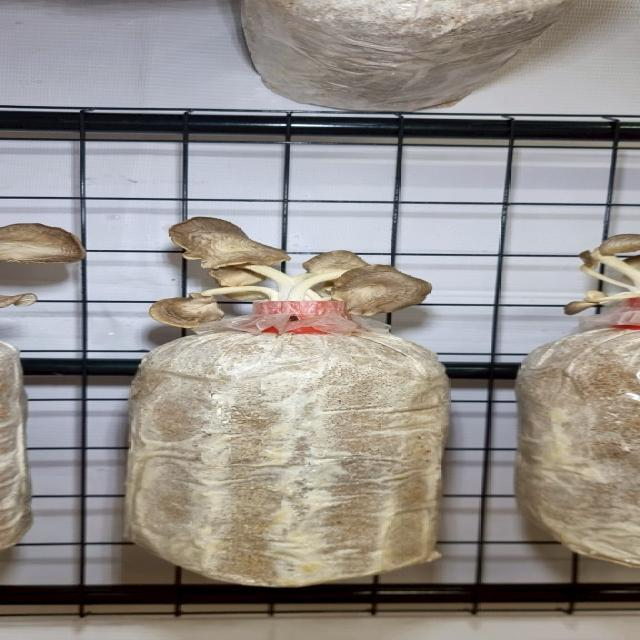abnormal: (336, 261, 446, 320), (178, 219, 291, 272), (151, 279, 256, 325)
